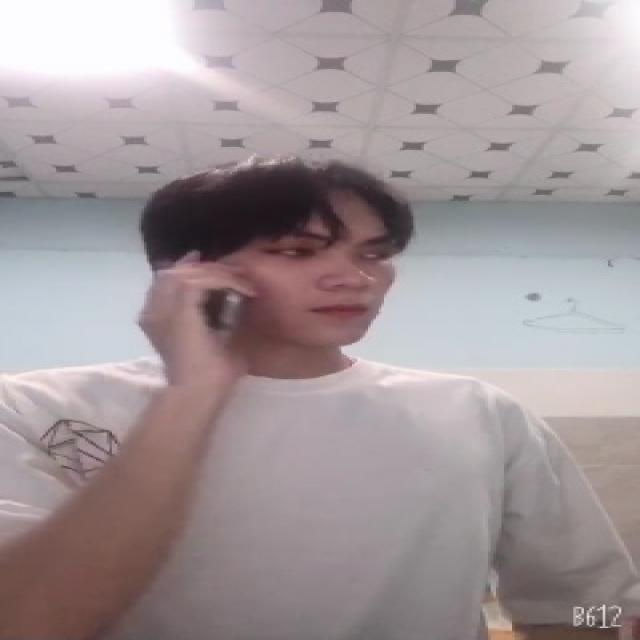Phone: (199, 259, 255, 345)
